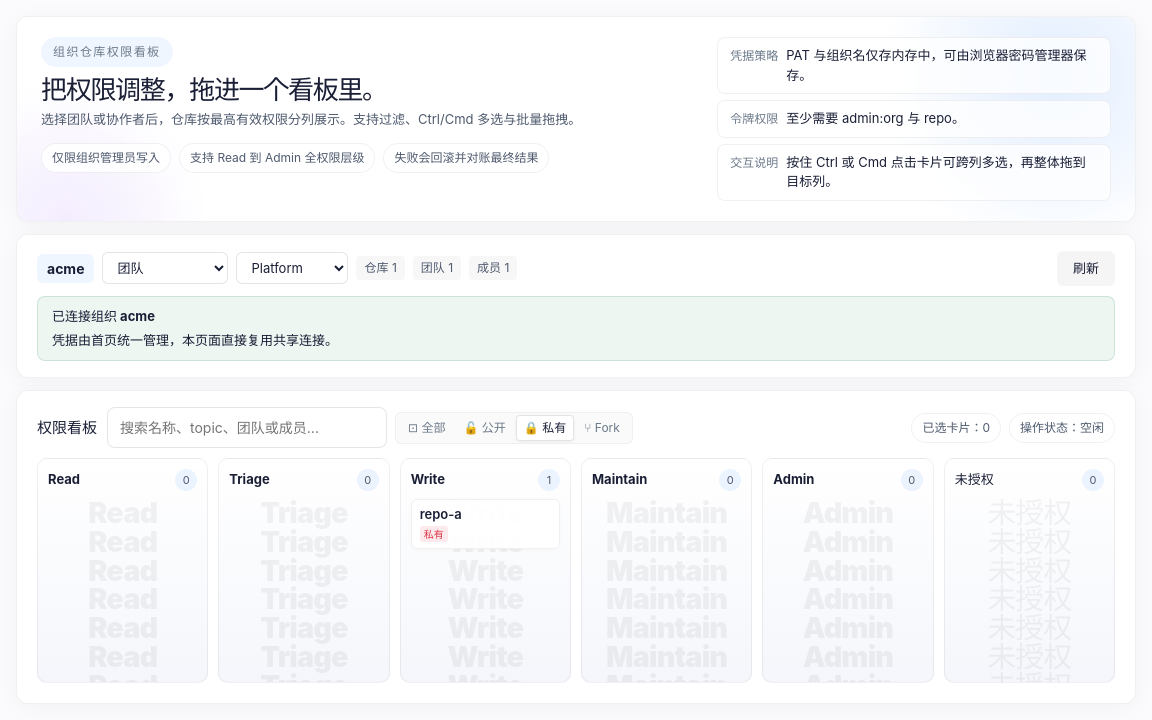
Test: App › loads user permissions on-demand when switching to user mode
The width and height of the screenshot is (1152, 720).
Check: the element with test id "column-push" shows "repo-a", box x1=411 y1=499 x2=560 y2=548
Step 1. Select "个人协作者" in the dropdown named "主体类型" → (166, 268), box x1=102 y1=252 x2=228 y2=284
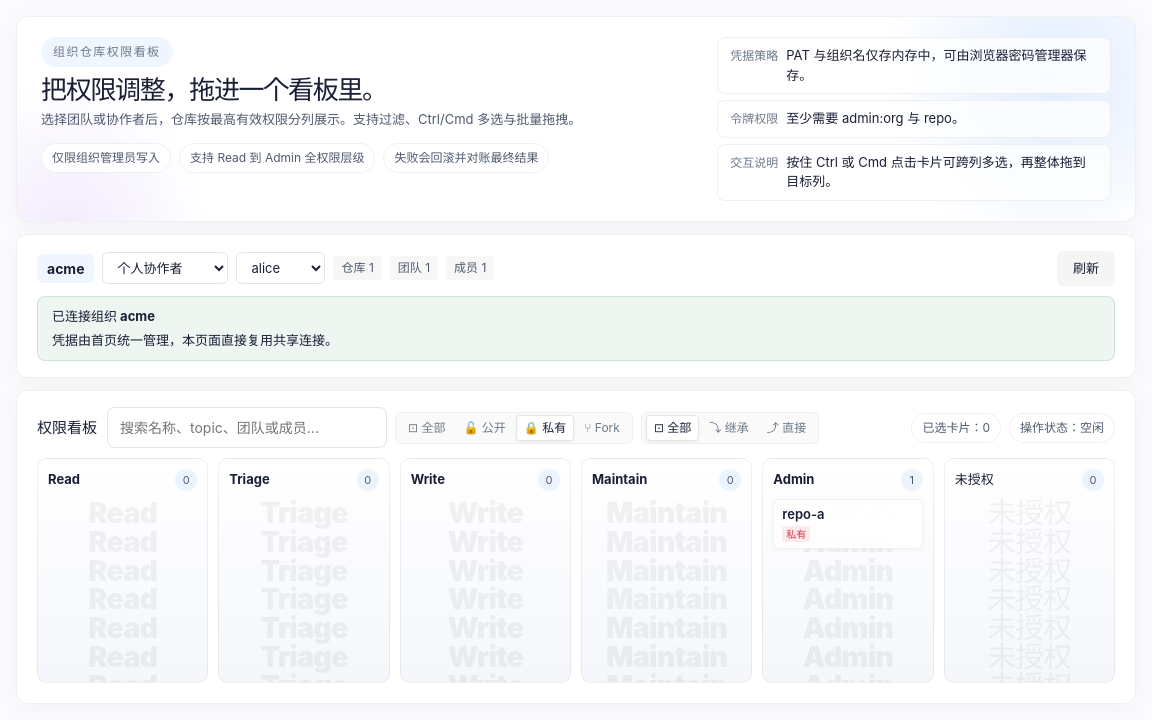
Check: the dropdown named "个人协作者" shows "alice", box x1=236 y1=252 x2=326 y2=284
Check: the element with test id "column-admin" shows "repo-a", box x1=773 y1=499 x2=923 y2=548
